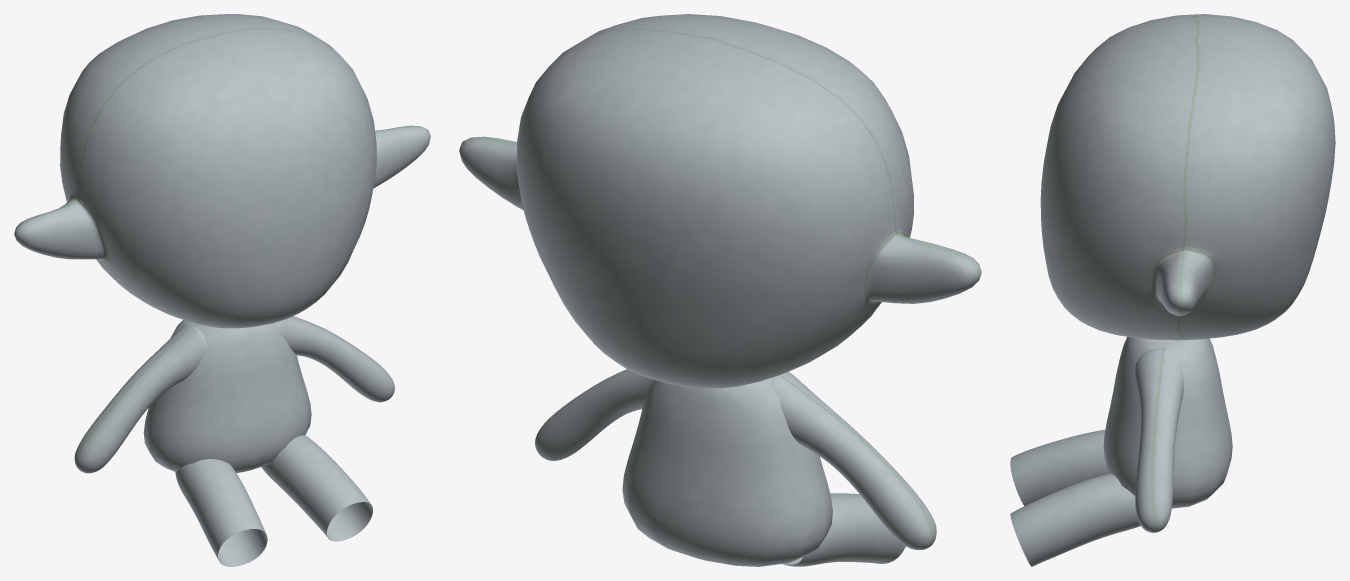
File: Alien.glb
The picture shows the model from 3 angles, left to right: view 1: azimuth 30°, elevation 25°; view 2: azimuth 150°, elevation 25°; view 3: azimuth 270°, elevation 25°; orthographic projection. The views are drawn at different scales.
Visible parts, largest first — view 1: Alien; view 2: Alien; view 3: Alien.
Boxes of the visible parts, bbox=[...] form: Alien: bbox=[14, 14, 430, 566]; Alien: bbox=[459, 14, 981, 566]; Alien: bbox=[1010, 14, 1335, 566].
Bounding box in the file's own units: 1.34 × 1.43 × 0.8478.
Materials: 1 (1 with a texture image).
